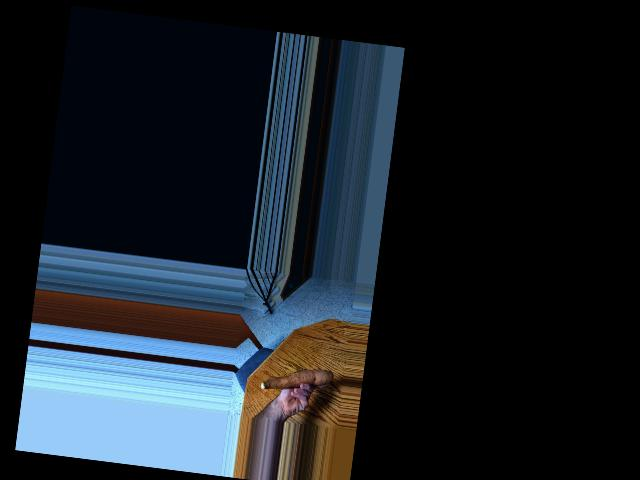sweet_potato: (258, 357, 332, 398)
